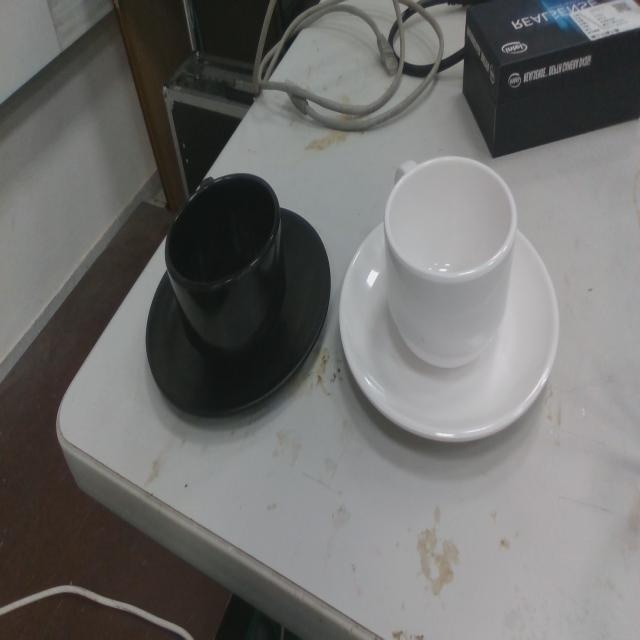black: (143, 170, 331, 427)
white: (335, 150, 563, 453)
